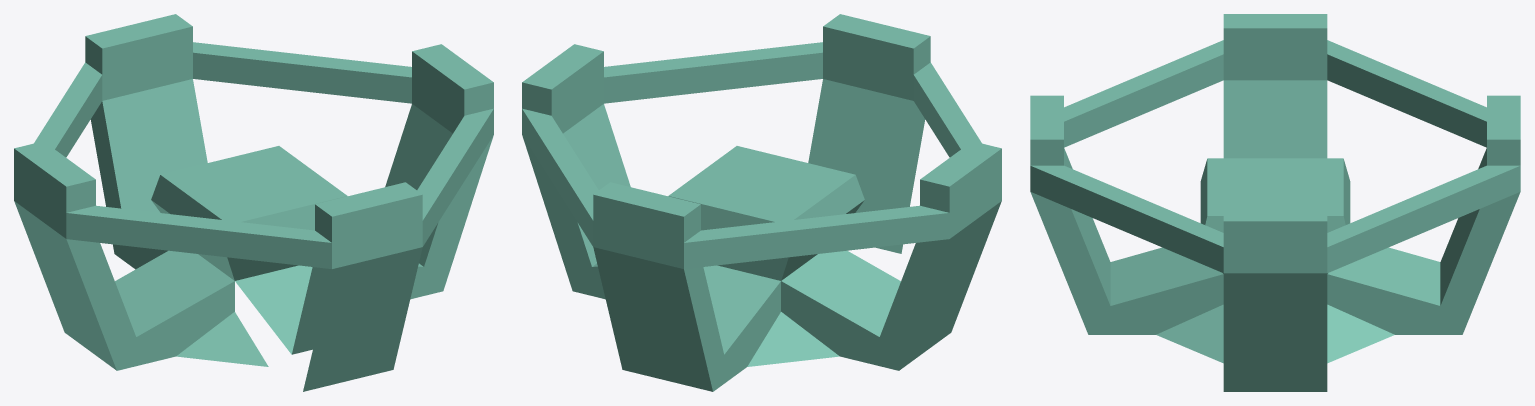
The model's file is fireBasket.fbx.
3 views of the same model, side by side, from view 1: azimuth 30°, elevation 25°; view 2: azimuth 150°, elevation 25°; view 3: azimuth 270°, elevation 25° (orthographic).
Parts seen in each view (by area): view 1: fireBasket; view 2: fireBasket; view 3: fireBasket.
Part boxes in pixels (box(x1,y1,x2,y2)): fireBasket: box(14, 14, 493, 391); fireBasket: box(522, 14, 1001, 391); fireBasket: box(1030, 14, 1520, 391).
Size of the model in its own units: 2.73 by 1.2 by 2.73.
